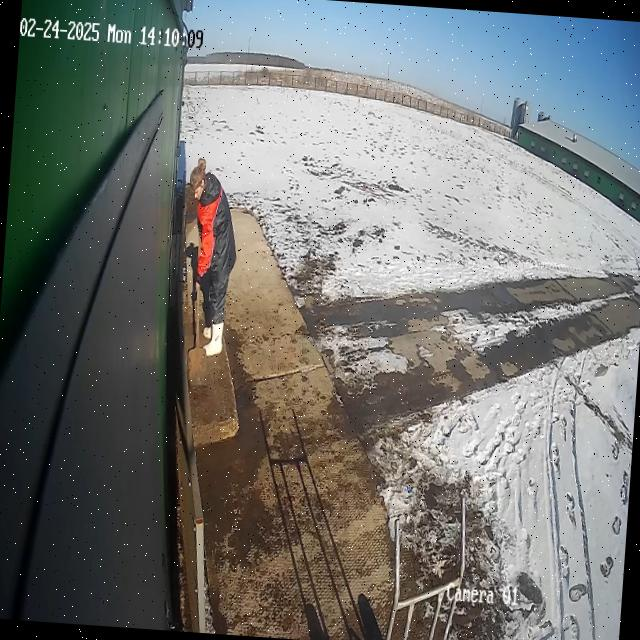Red uniform: (175, 158, 244, 360)
